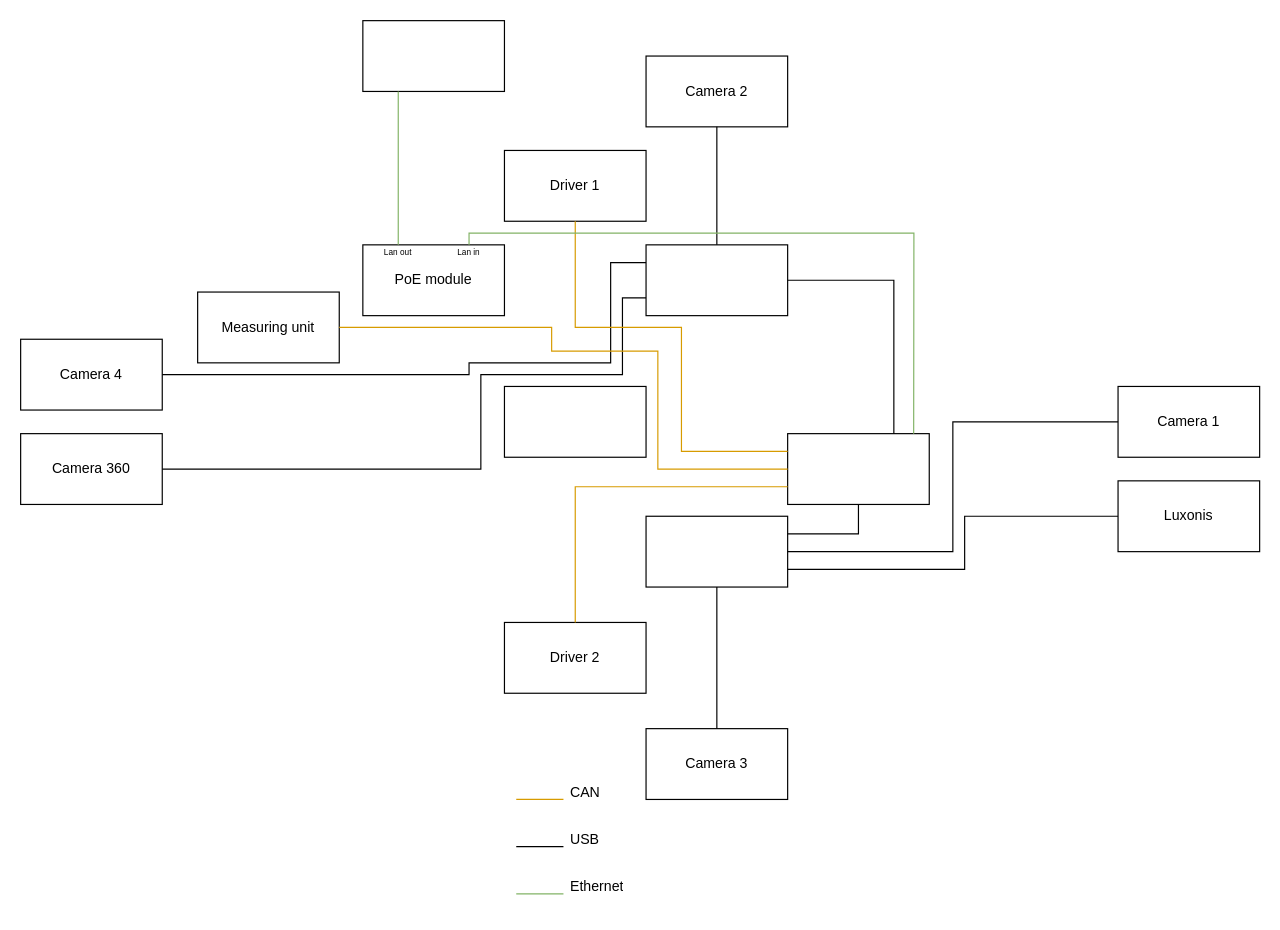
Image size: 1280x930. Some labels were removed from this diagram. Each missing label, with the centre of its shape:
Antenna: the point at 433,55
Control logic: the point at 857,468
Emergency relay: the point at 574,421
USB hub 1: the point at 716,551
USB hub 2: the point at 716,280
